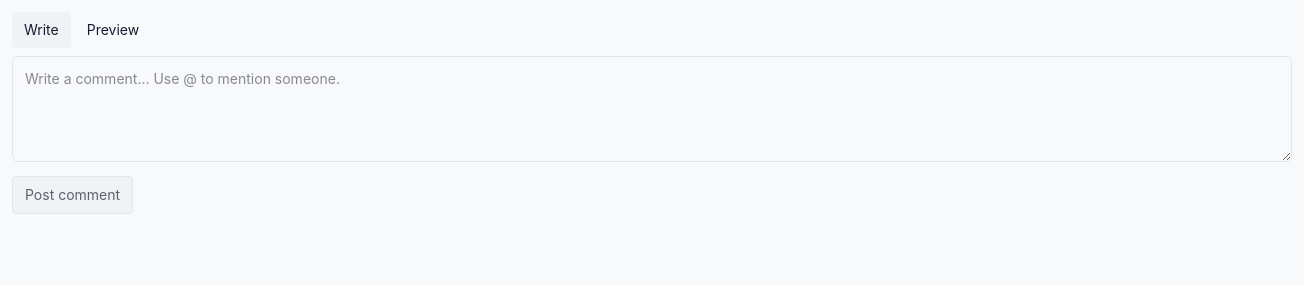
Test case: removes a warning when the mention is removed and preserves failed drafts
This screenshot has width=1304, height=285.
In the text box labelled "comment": (652, 109) x1=12 y1=56 x2=1292 y2=162, type "@Sa"
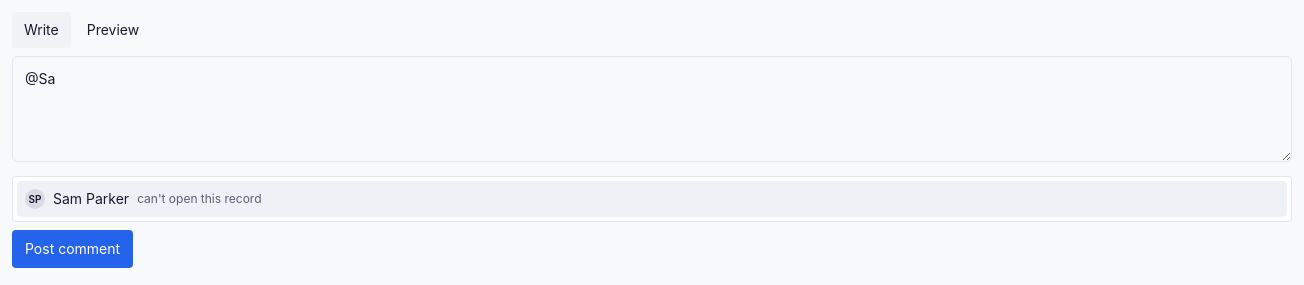
Click the option "SP Sam Parker can't open this record": (91, 198) x1=17 y1=181 x2=1287 y2=217
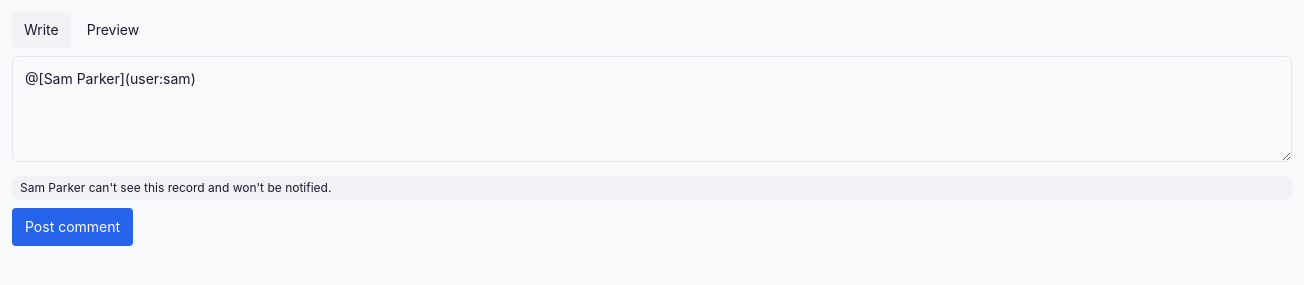
Replace the text in the text box named "comment" with "Revised draft": (652, 109) x1=12 y1=56 x2=1292 y2=162
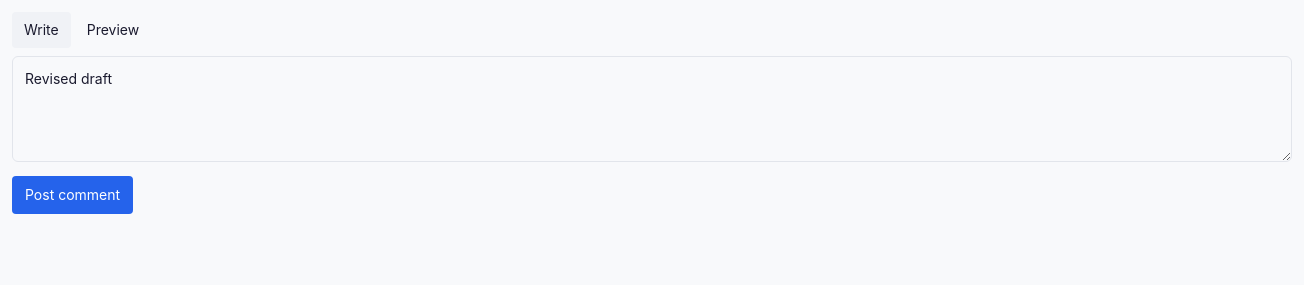
Click the button "Post comment": (73, 195) x1=12 y1=176 x2=133 y2=214
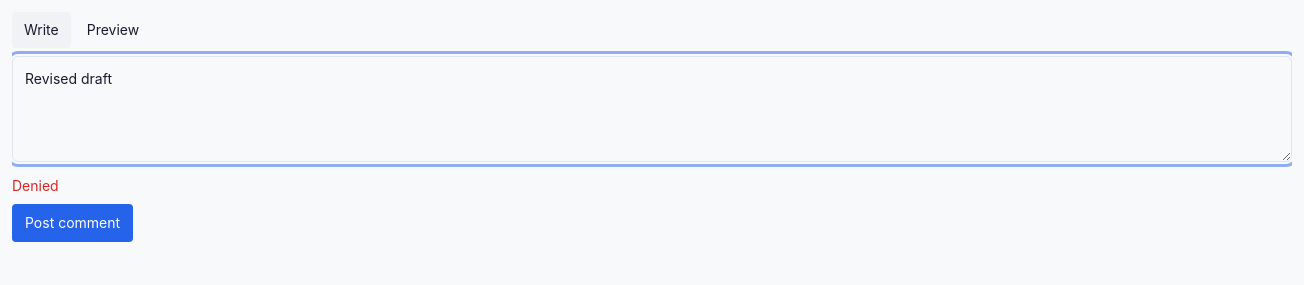
Expected: the message reads "Denied", x1=12 y1=177 x2=59 y2=194
